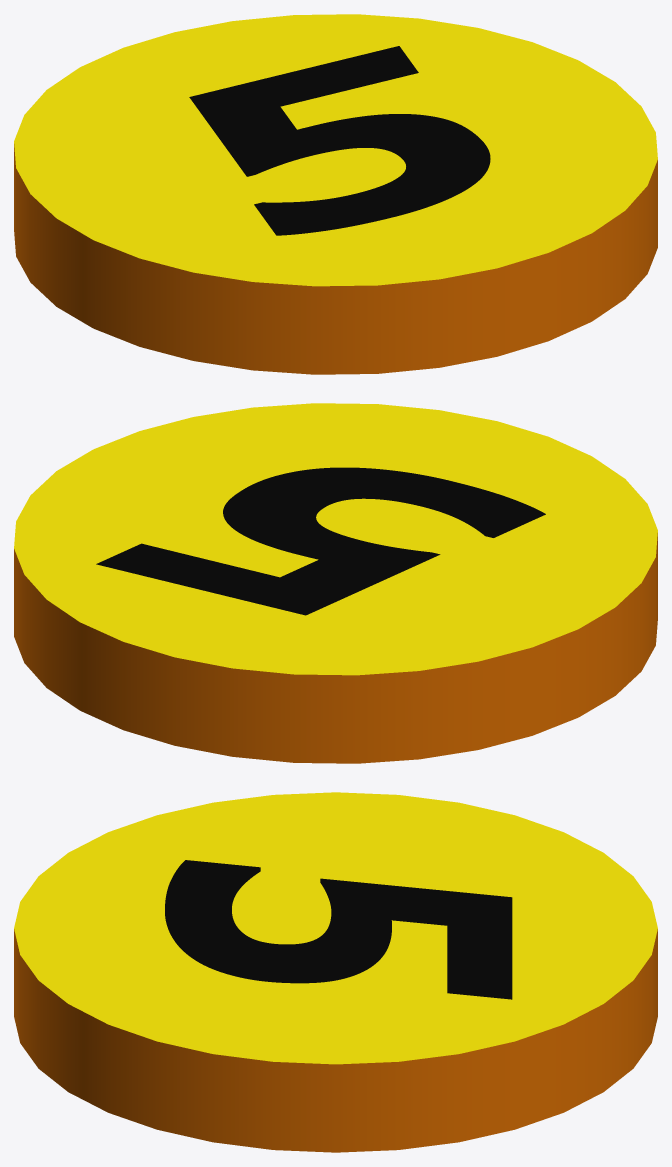
File: five.fbx
The picture shows the model from 3 angles, top to bottom: view 1: azimuth 30°, elevation 25°; view 2: azimuth 150°, elevation 25°; view 3: azimuth 270°, elevation 25°; orthographic projection.
Visible parts, largest first — view 1: ทรงกระบอก.004, ช้อความ.004; view 2: ทรงกระบอก.004, ช้อความ.004; view 3: ทรงกระบอก.004, ช้อความ.004.
Boxes of the visible parts, x1,y1,x2,y2 form: ทรงกระบอก.004: [14, 14, 657, 374]; ช้อความ.004: [189, 46, 490, 235]; ทรงกระบอก.004: [14, 403, 657, 763]; ช้อความ.004: [96, 467, 545, 615]; ทรงกระบอก.004: [14, 792, 657, 1152]; ช้อความ.004: [165, 860, 512, 999].
Size of the model in its own units: 200 by 31.15 by 200.
